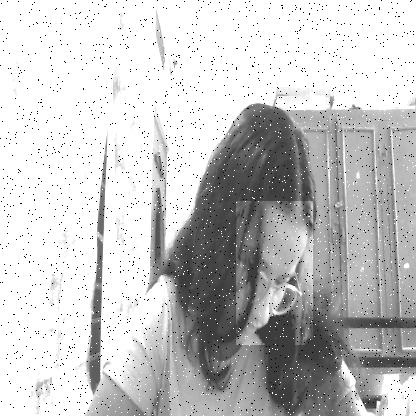Distracted: (236, 201, 313, 345)
